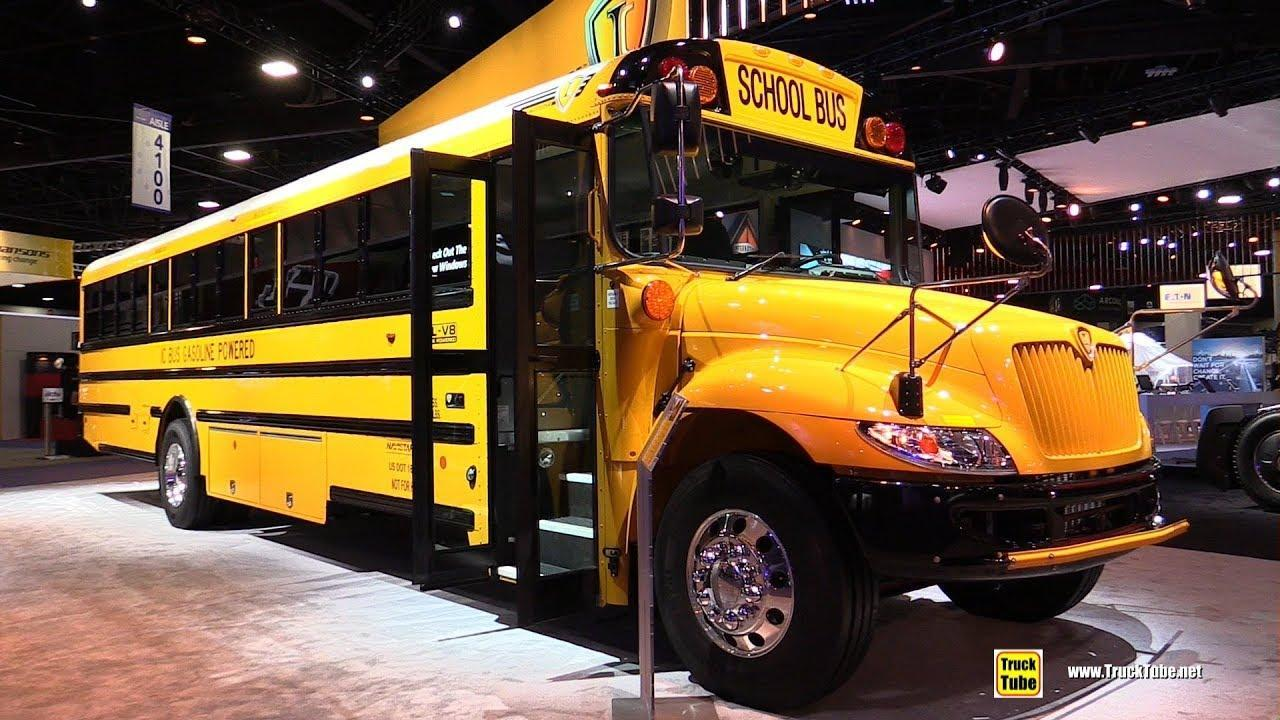Bus: (68, 0, 1279, 714)
